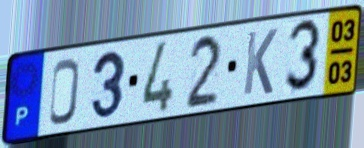0: (48, 56, 82, 128)
2: (184, 31, 224, 111)
3: (281, 16, 326, 96), (88, 48, 130, 122)
4: (140, 38, 177, 116)
K: (241, 26, 280, 98)
